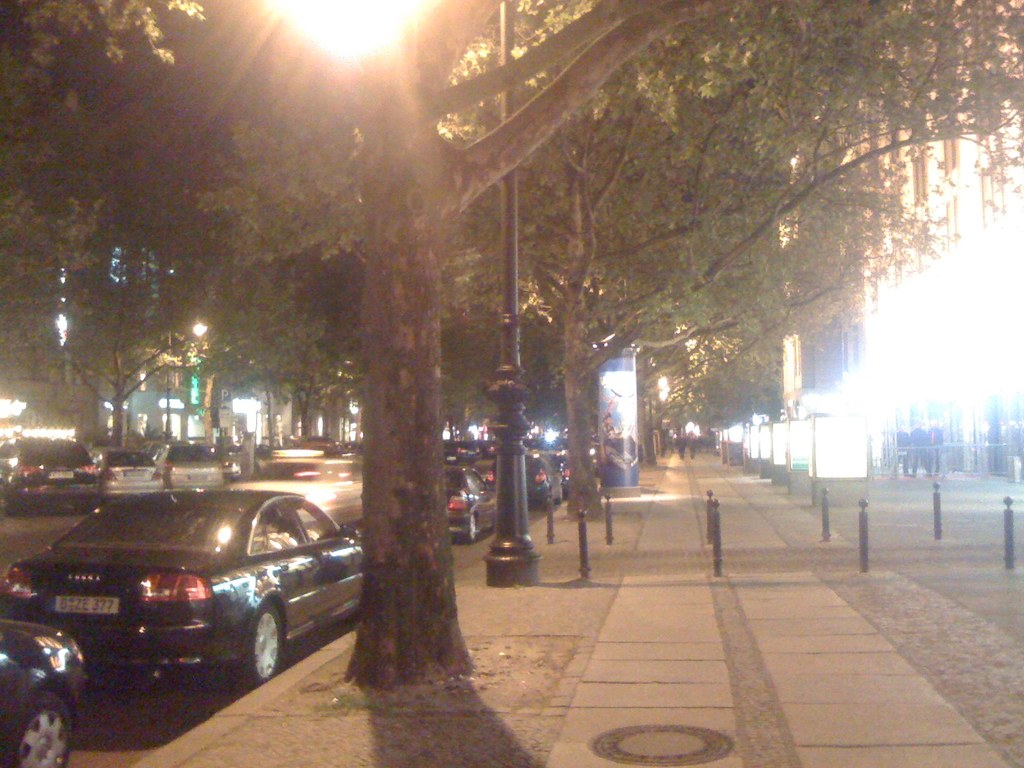Car: (0, 485, 369, 691), (0, 615, 88, 767), (0, 432, 102, 508), (487, 449, 565, 508), (87, 444, 161, 505), (136, 442, 225, 487), (446, 464, 497, 542), (545, 447, 569, 496), (222, 458, 241, 481)
